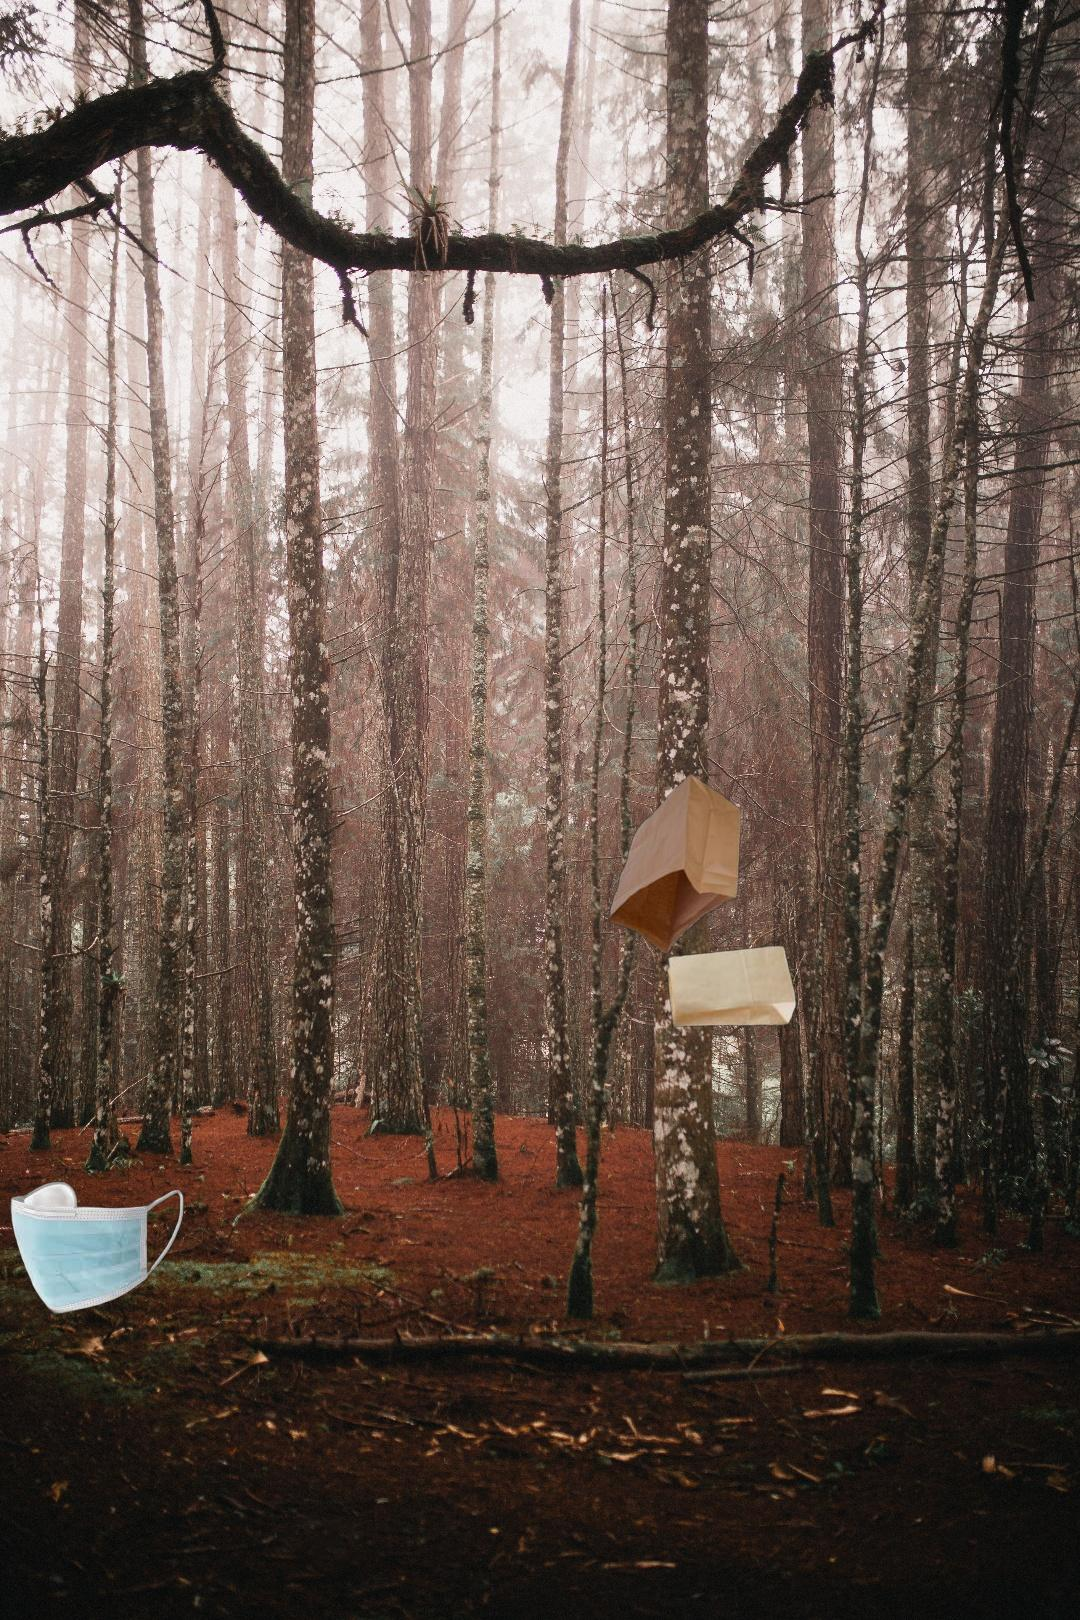paper-bag: (607, 770, 799, 1031)
trash: (7, 1179, 187, 1316)
